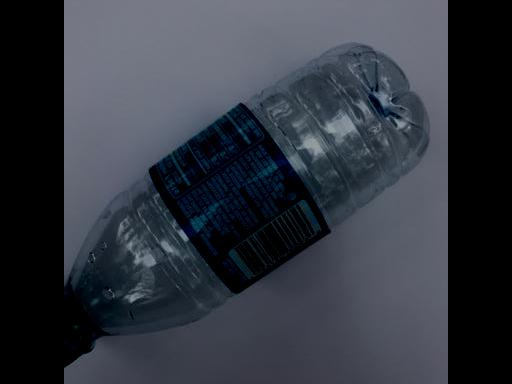bottle: (64, 36, 432, 369)
